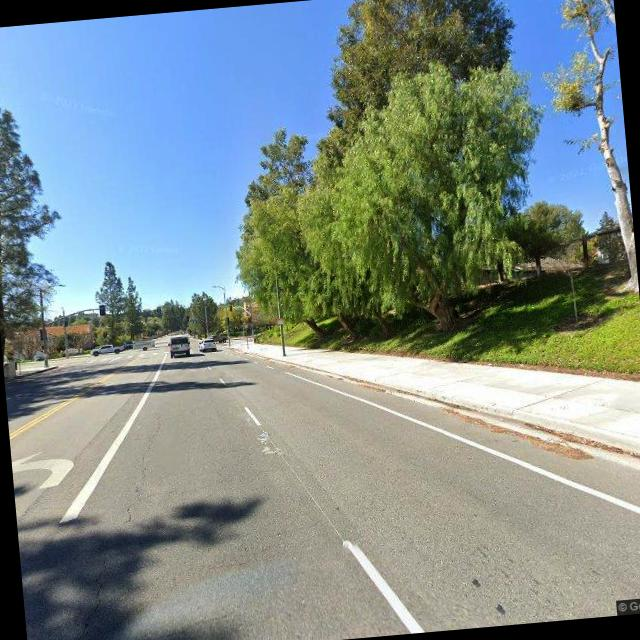pothole: (110, 414, 169, 526), (68, 553, 116, 640)
